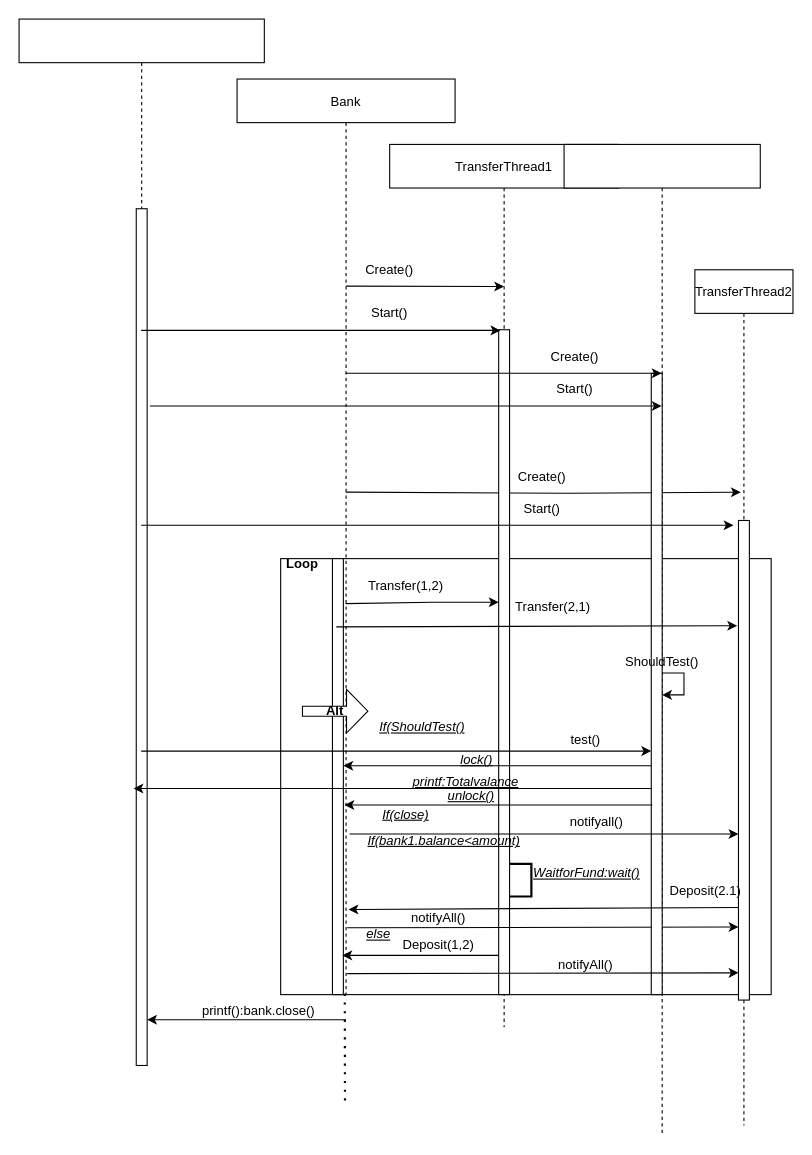
The diagram is 812 pixels wide and 1155 high, and some of its shapes have lost their labels. Each missing label, with the box of its shape:
:UnsynBankTest: (18, 18, 264, 1065)
TestThread: (563, 143, 760, 1136)
